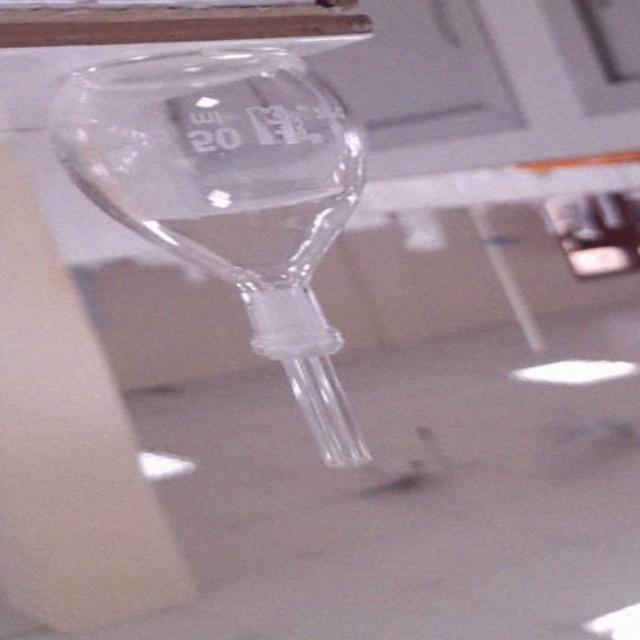Density Bottle for Liquids: (17, 28, 549, 496)
